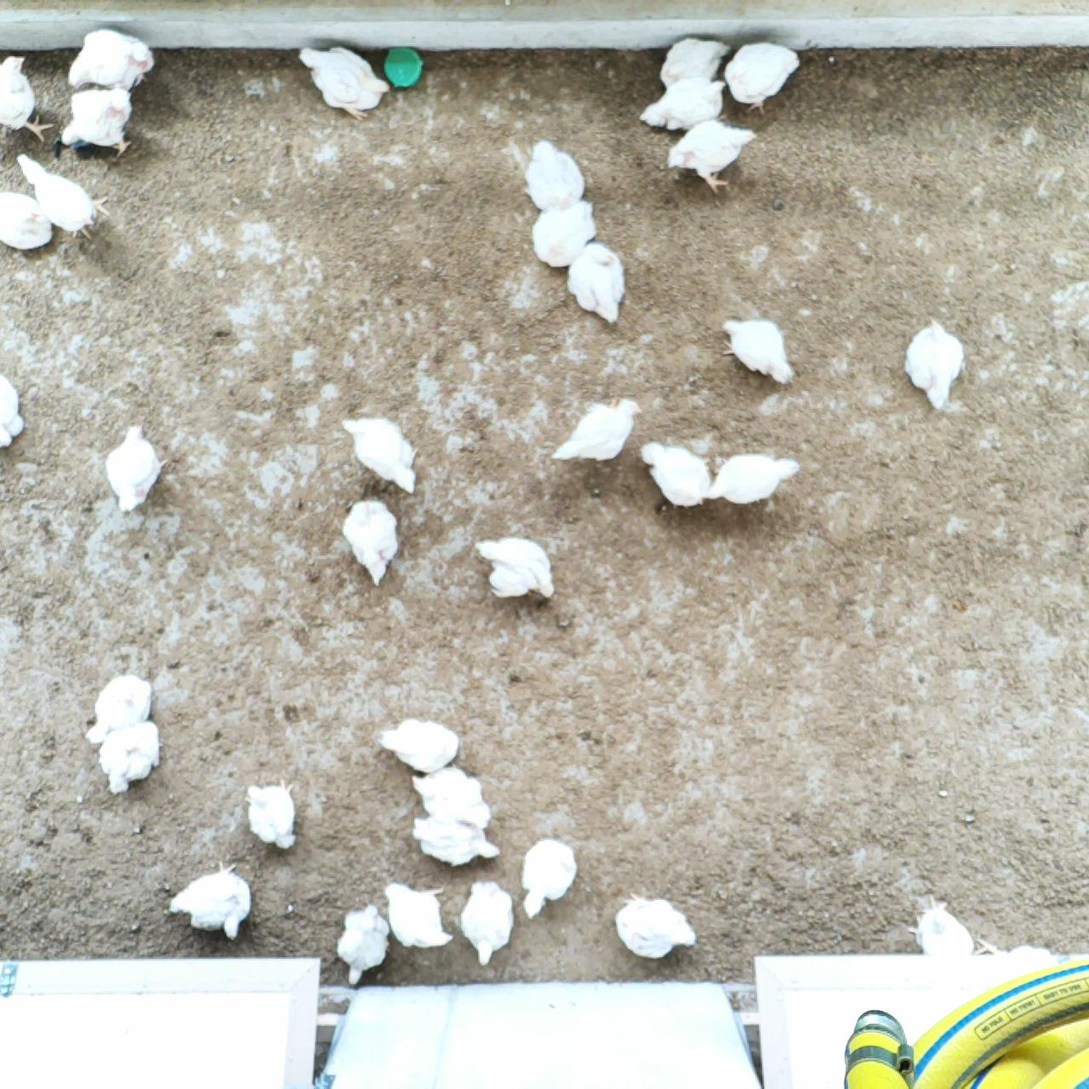chicken: (7, 151, 111, 241), (294, 43, 391, 118), (166, 862, 256, 941), (337, 416, 425, 495), (665, 122, 761, 192), (904, 897, 974, 992), (553, 394, 644, 467), (702, 446, 800, 513), (975, 937, 1061, 1012), (106, 421, 173, 516), (905, 315, 967, 415), (616, 889, 699, 960), (405, 761, 490, 830), (638, 437, 715, 511), (342, 496, 404, 587), (65, 29, 153, 93), (0, 45, 54, 148), (718, 315, 796, 385), (473, 533, 554, 600), (565, 238, 628, 324), (85, 668, 156, 744), (459, 878, 520, 966), (730, 38, 801, 113), (59, 87, 135, 157), (518, 831, 579, 917), (410, 813, 500, 870), (93, 720, 161, 795), (531, 196, 602, 267), (383, 877, 451, 951), (641, 77, 728, 133), (380, 712, 458, 773), (519, 140, 582, 214), (335, 904, 391, 987), (242, 779, 299, 854), (657, 36, 728, 94), (0, 185, 56, 251), (0, 369, 24, 454)
